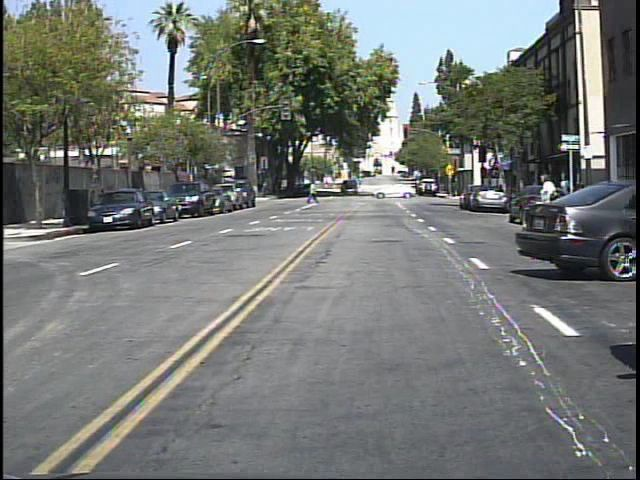person: (529, 167, 561, 245), (305, 176, 322, 208)
